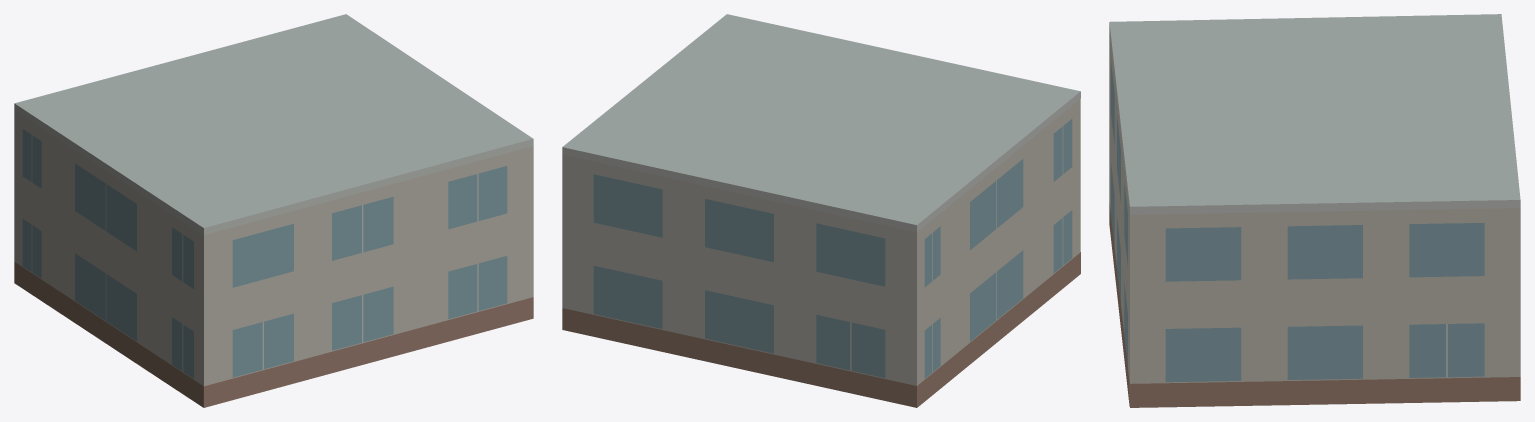
File: survey-upis-32708461.glb
3 renders of one model, left to right at view 1: azimuth 30°, elevation 25°; view 2: azimuth 150°, elevation 25°; view 3: azimuth 270°, elevation 25°, orthographic. The views are drawn at different scales.
Visible parts, largest first — view 1: survey-upis-32708461.tmp; view 2: survey-upis-32708461.tmp; view 3: survey-upis-32708461.tmp.
Boxes of the visible parts, x1,y1,x2,y2 form: survey-upis-32708461.tmp: [14, 14, 533, 407]; survey-upis-32708461.tmp: [562, 14, 1080, 407]; survey-upis-32708461.tmp: [1109, 14, 1520, 407].
Size of the model in its own units: 12.55 by 6.1 by 11.32.
